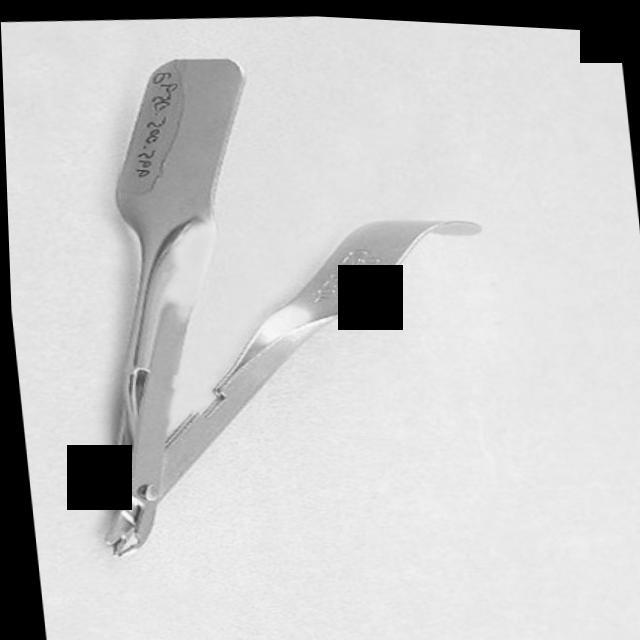Stapler Remover: (49, 29, 524, 576)
